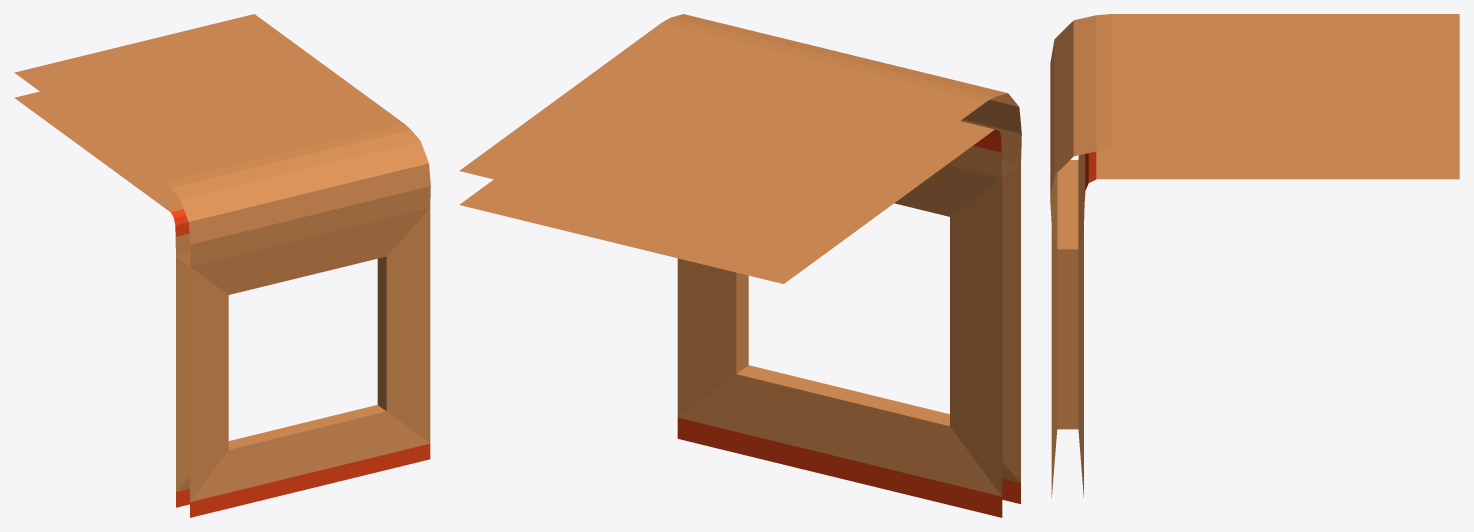
File: WindowNoCaps.fbx
The picture shows the model from 3 angles, left to right: view 1: azimuth 30°, elevation 25°; view 2: azimuth 150°, elevation 25°; view 3: azimuth 270°, elevation 25°; orthographic projection. The views are drawn at different scales.
Parts seen in each view (by area): view 1: ExteriorWallNoCaps; view 2: ExteriorWallNoCaps; view 3: ExteriorWallNoCaps.
Boxes of the visible parts, <box> form: ExteriorWallNoCaps: <box>14,14,430,517</box>; ExteriorWallNoCaps: <box>459,14,1021,517</box>; ExteriorWallNoCaps: <box>1050,14,1459,498</box>.
Bounding box in the file's own units: 2.5 × 3.15 × 3.18.
